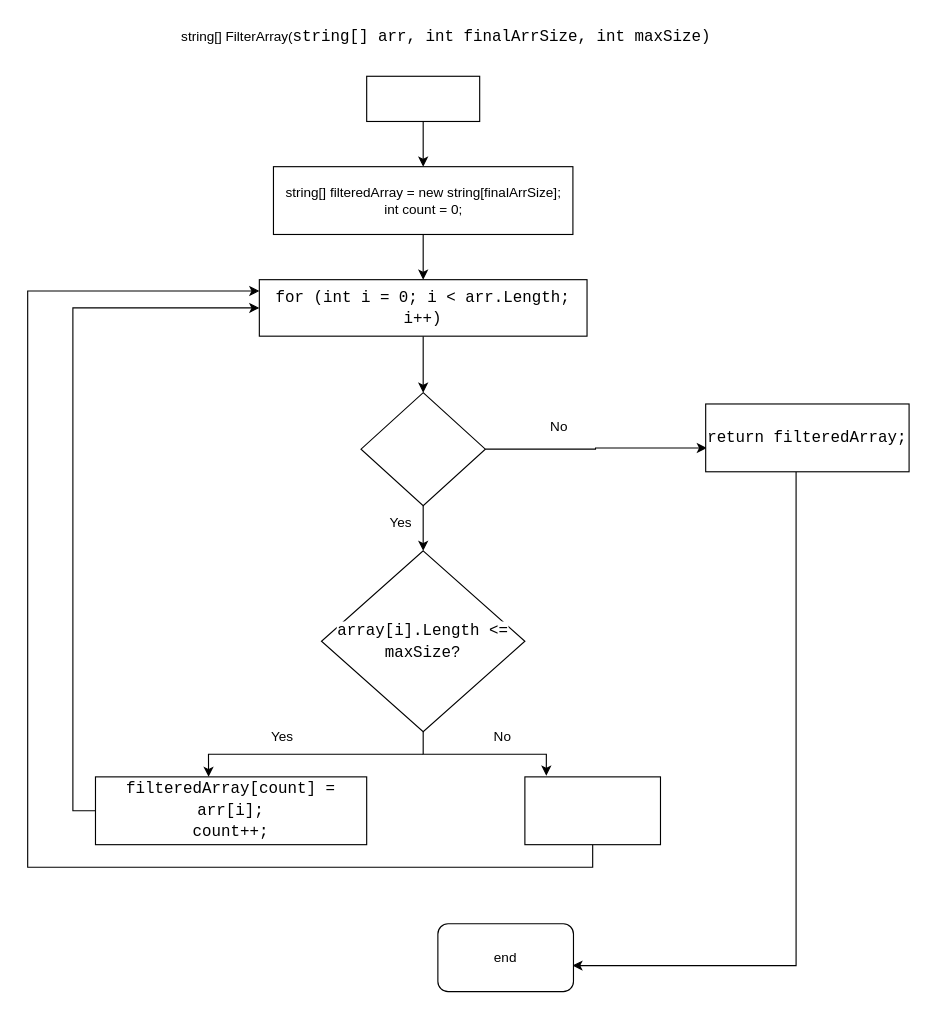
This 929x1011 diagram has some shape labels left out. The centre of each missing label's shape, as x and y in pixels:
"continue" goes at [592,810].
"i < arr.Length?" goes at [422,449].
"start" goes at [423,98].
